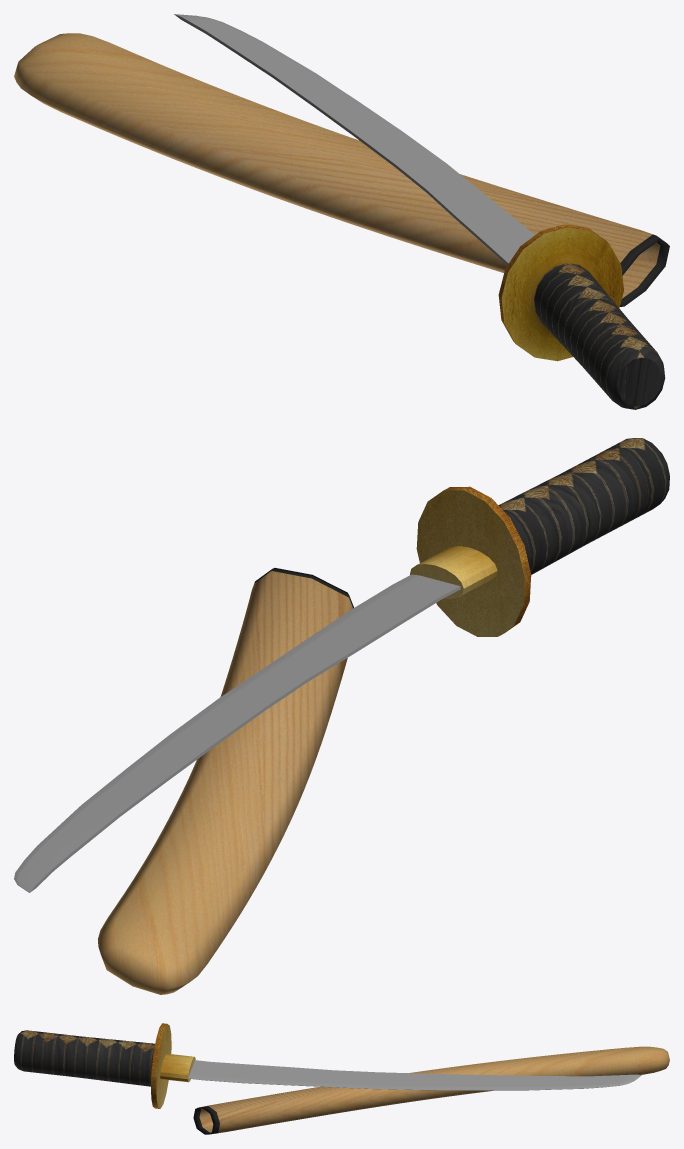
The model's file is Sword OBJ.obj.
3 renders of one model, top to bottom at view 1: azimuth 30°, elevation 25°; view 2: azimuth 150°, elevation 25°; view 3: azimuth 270°, elevation 25°, orthographic. The views are drawn at different scales.
Parts seen in each view (by area): view 1: sword_cover, Hand_grip, Sharp_Blade; view 2: sword_cover, Hand_grip, Sharp_Blade; view 3: sword_cover, Hand_grip, Sharp_Blade.
Boxes of the visible parts, left/top/right/bottom form: sword_cover: left=14, top=33, right=669, bottom=306; Hand_grip: left=498, top=224, right=665, bottom=409; Sharp_Blade: left=174, top=14, right=534, bottom=265; sword_cover: left=98, top=568, right=353, bottom=994; Hand_grip: left=410, top=438, right=669, bottom=636; Sharp_Blade: left=14, top=574, right=460, bottom=892; sword_cover: left=193, top=1046, right=669, bottom=1134; Hand_grip: left=14, top=1023, right=195, bottom=1108; Sharp_Blade: left=188, top=1060, right=641, bottom=1090.
Bounding box in the file's own units: 7.77 × 3.33 × 24.65.
